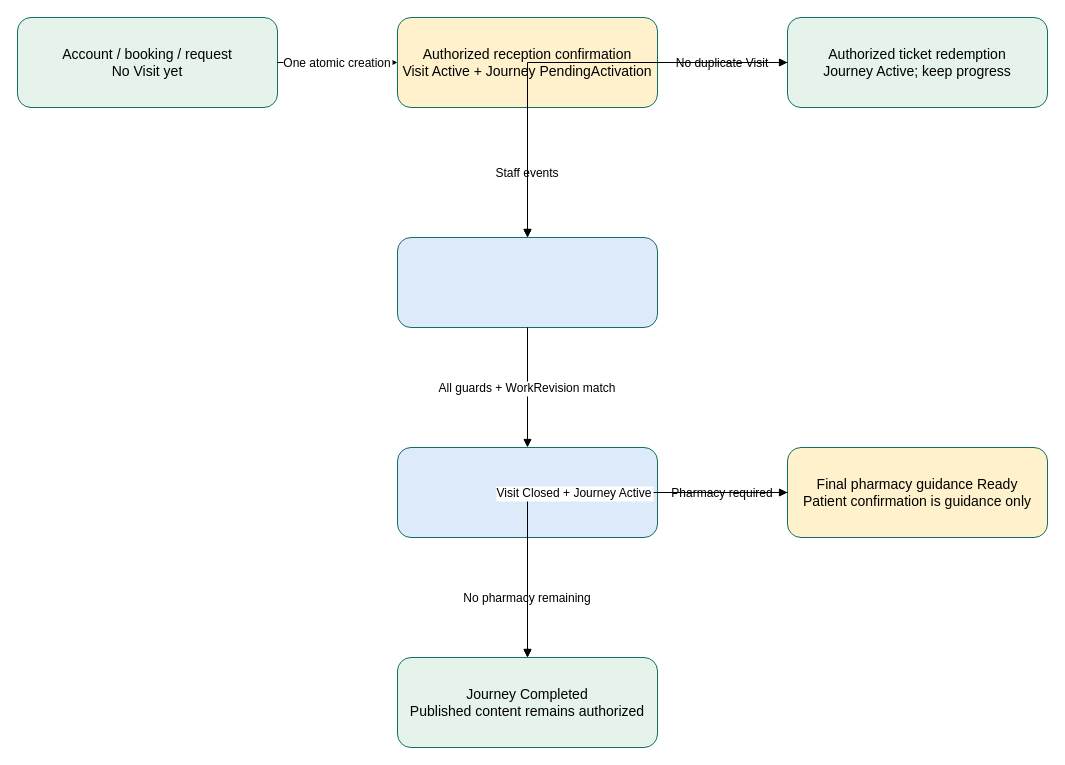
Some shapes in this 1065 by 765 pixel diagram are drawn without their labels. Each missing label, with the centre of its shape:
"Consultation + required services Required return + current settlement" goes at (x=527, y=282).
"Visit Closed Preserve Journey activation state" goes at (x=527, y=492).
